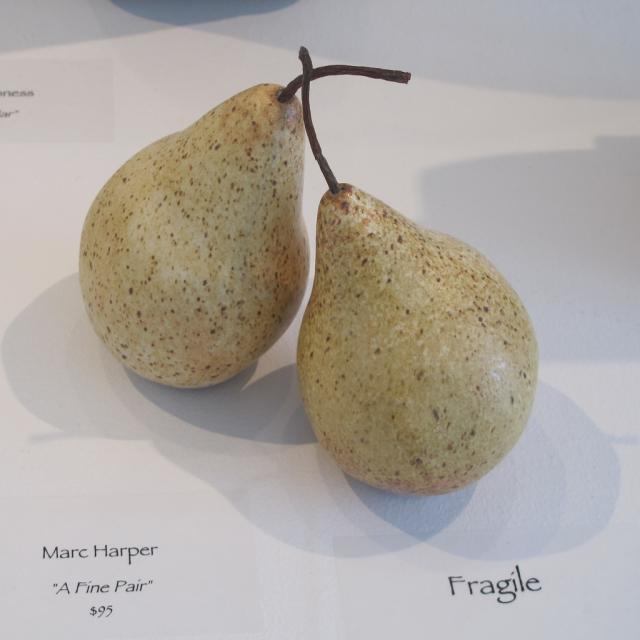Pear: (296, 182, 541, 494), (81, 83, 319, 385)
